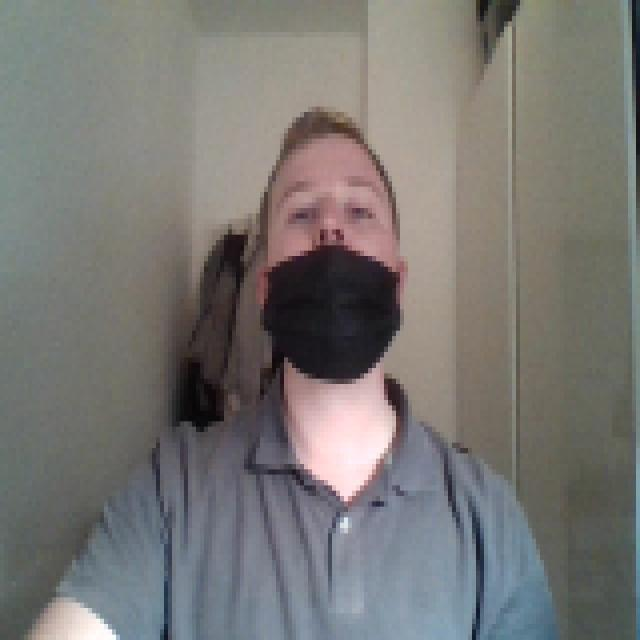hairnet: (240, 187, 408, 406)
